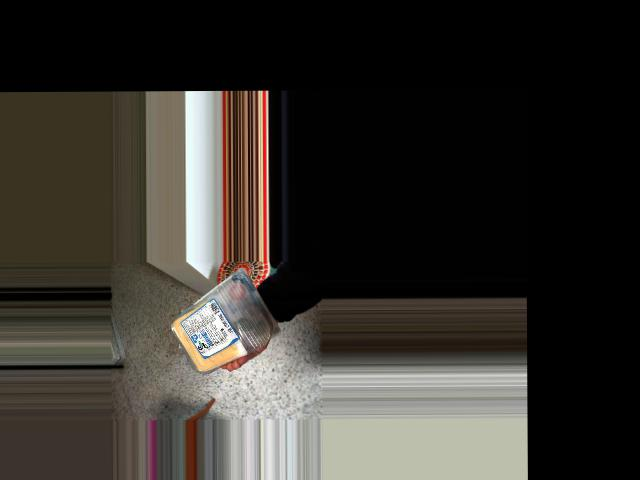cheese: (166, 277, 266, 360)
